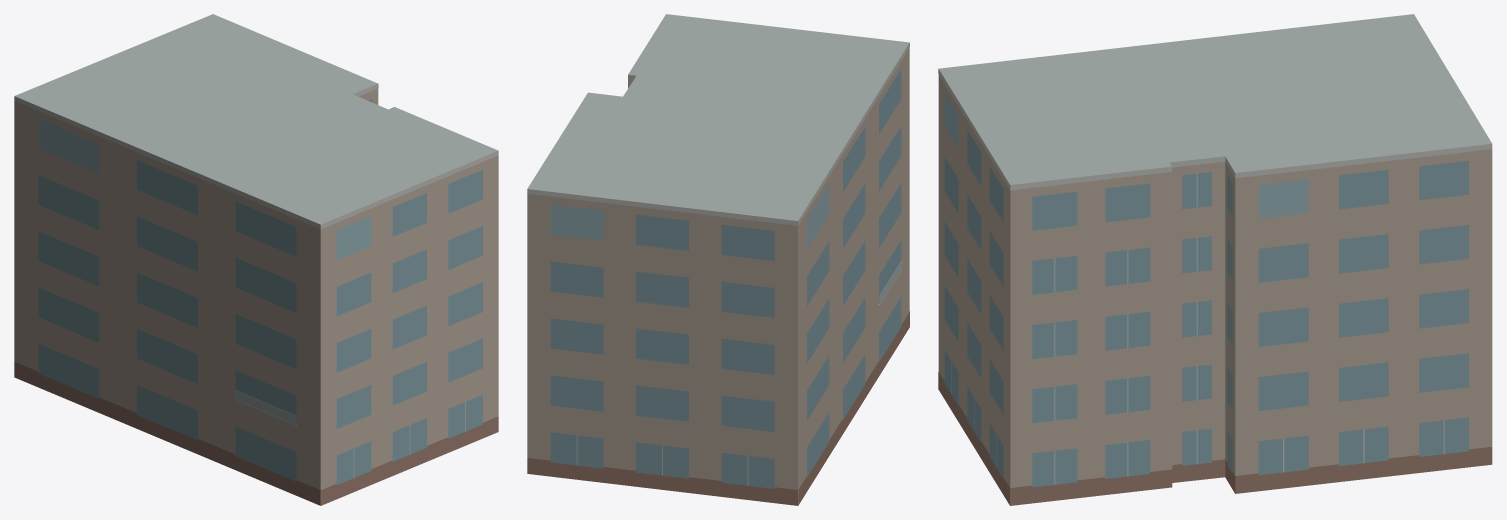
Rendered from survey-upis-32562900.glb.
3 views of the same model, side by side, from view 1: azimuth 30°, elevation 25°; view 2: azimuth 150°, elevation 25°; view 3: azimuth 270°, elevation 25° (orthographic). The views are drawn at different scales.
Visible parts, largest first — view 1: survey-upis-32562900.tmp; view 2: survey-upis-32562900.tmp; view 3: survey-upis-32562900.tmp.
Part boxes in pixels (x1,y1,x2,y2): survey-upis-32562900.tmp: (14,14,498,505); survey-upis-32562900.tmp: (527,14,909,505); survey-upis-32562900.tmp: (938,14,1492,505).
Size of the model in its own units: 16.82 by 14.7 by 23.01.
